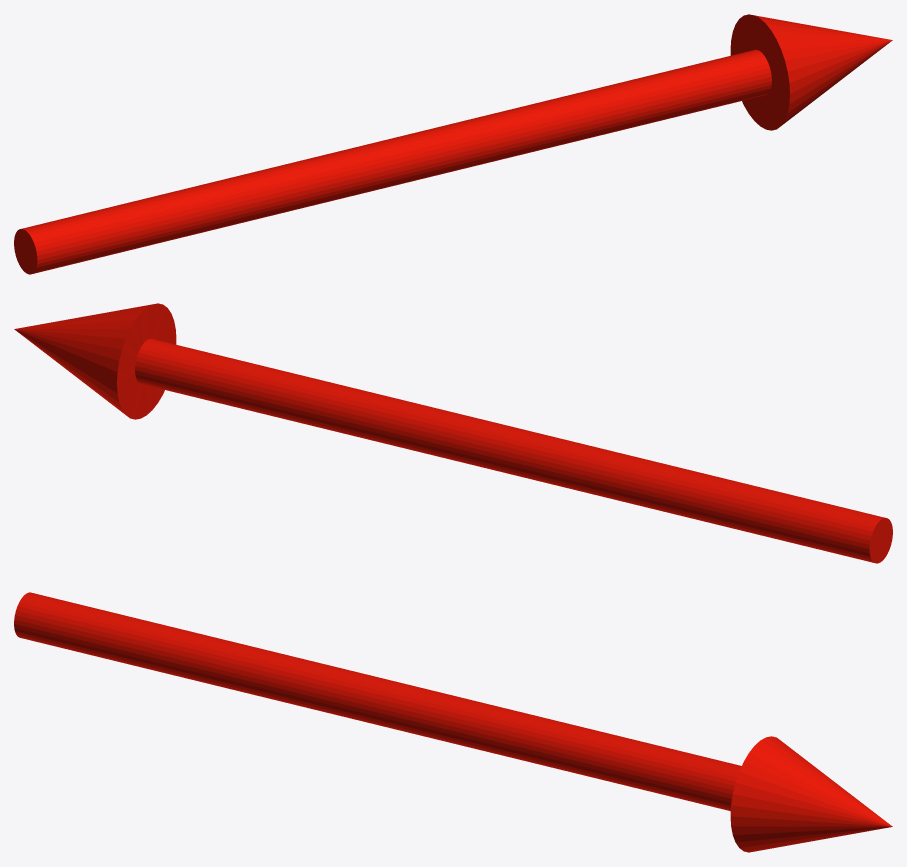
The model's file is TransforGizmo_X_Translation.fbx.
3 views of the same model, one above another, from view 1: azimuth 30°, elevation 25°; view 2: azimuth 150°, elevation 25°; view 3: azimuth 330°, elevation 25° (orthographic).
Visible parts, largest first — view 1: Cylinder; view 2: Cylinder; view 3: Cylinder.
Boxes of the visible parts, x1=… form: Cylinder: x1=14, y1=14, x2=892, y2=274; Cylinder: x1=14, y1=303, x2=892, y2=563; Cylinder: x1=14, y1=592, x2=892, y2=852.
Bounding box in the file's own units: 118 × 14.03 × 14.03.
